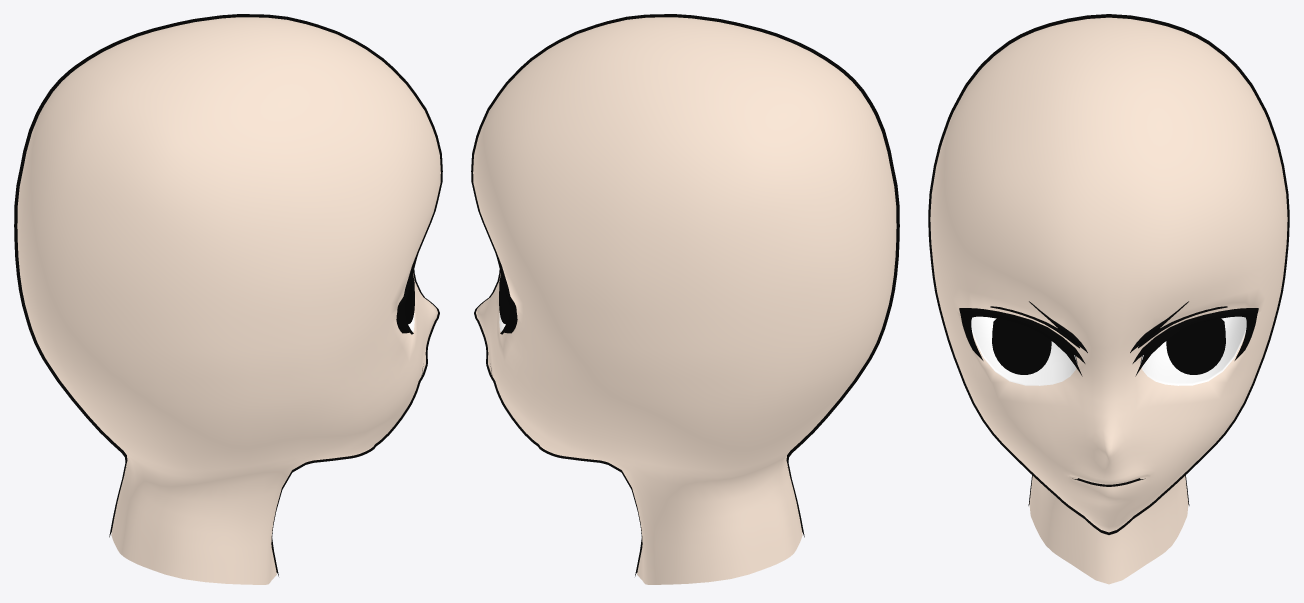
File: head.glb
The picture shows the model from 3 angles, left to right: view 1: azimuth 30°, elevation 25°; view 2: azimuth 150°, elevation 25°; view 3: azimuth 270°, elevation 25°; orthographic projection. The views are drawn at different scales.
Parts seen in each view (by area): view 1: Face, Face.001; view 2: Face, Face.001; view 3: Face, Eyes 1, Face.001, Eyes 3.
Boxes of the visible parts, <box> form: Face: <box>17,17,440,584</box>; Face.001: <box>14,14,442,576</box>; Face: <box>473,17,896,584</box>; Face.001: <box>471,14,899,576</box>; Face: <box>930,17,1287,584</box>; Eyes 1: <box>992,318,1225,374</box>; Face.001: <box>928,14,1289,534</box>; Eyes 3: <box>959,301,1258,376</box>.
Bounding box in the file's own units: 1.57 × 2.04 × 1.28.
